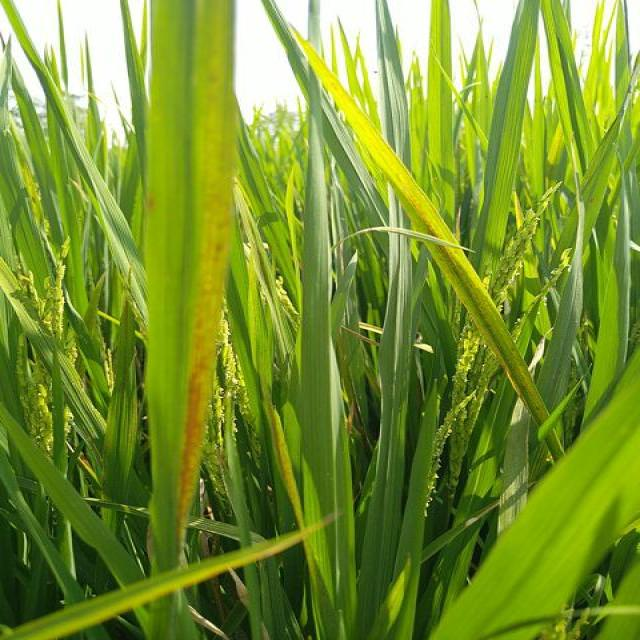Leaf Streak: (383, 168, 551, 427), (160, 117, 233, 569)
